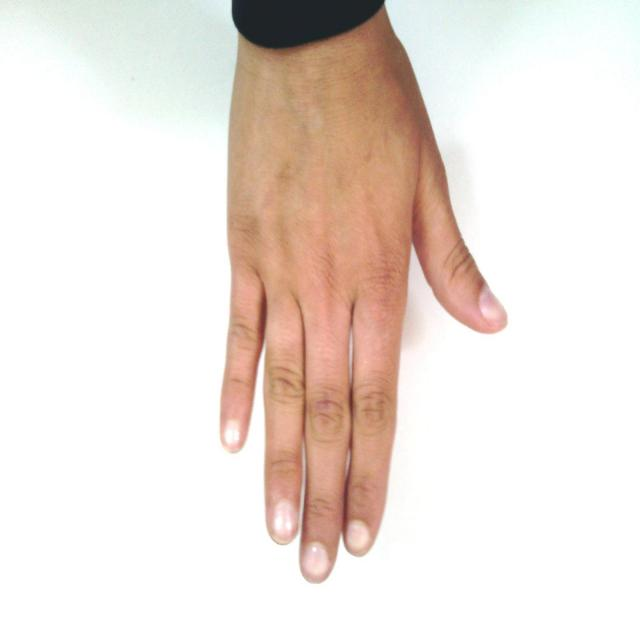others: (164, 3, 557, 590)
